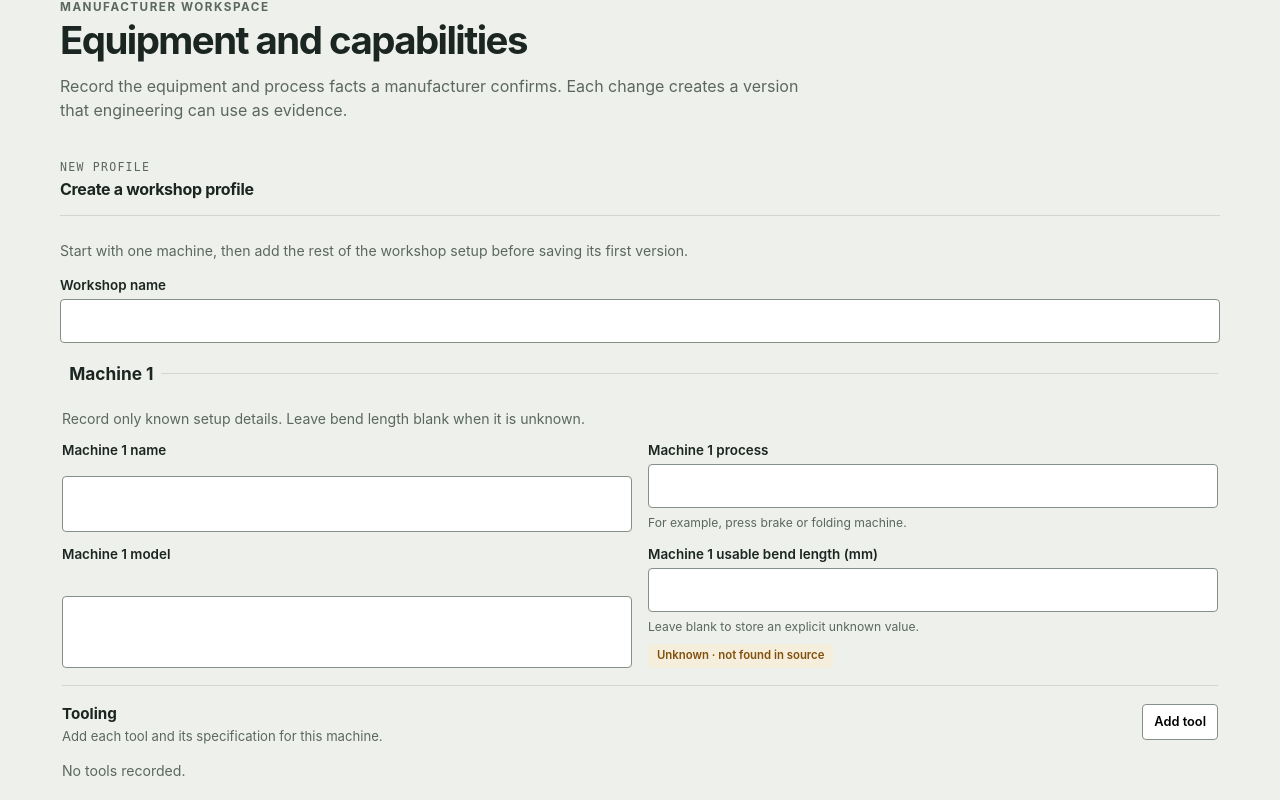
Scenario: workshop profile manager › keeps an unspecified bend length explicitly unknown and saves several machines in the first immutable version
This screenshot has width=1280, height=800.
Expected: the heading "Create a workshop profile" is shown, [60, 179, 254, 199]
Expected: the text "Unknown · not found in source" is shown, [648, 644, 834, 668]
Type "South workshop" into the field labelled "Workshop name".
click(640, 321); type("South workshop")  # box [60, 299, 1220, 343]
Type "Brake A" into the field labelled "Machine 1 name".
click(347, 504); type("Brake A")  # box [62, 476, 632, 532]
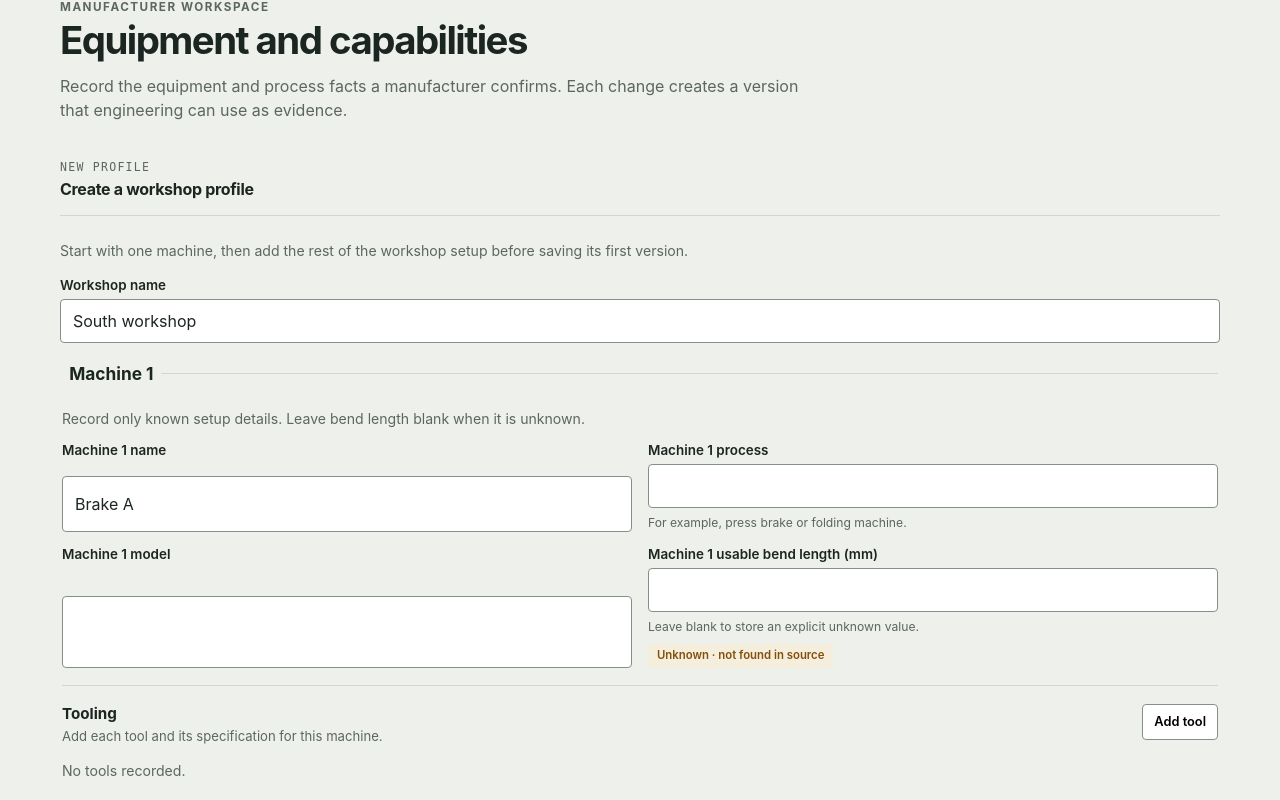
Type "Press brake" into the field labelled "Machine 1 process".
click(933, 486); type("Press brake")  # box [648, 464, 1218, 508]
(page scrolled)
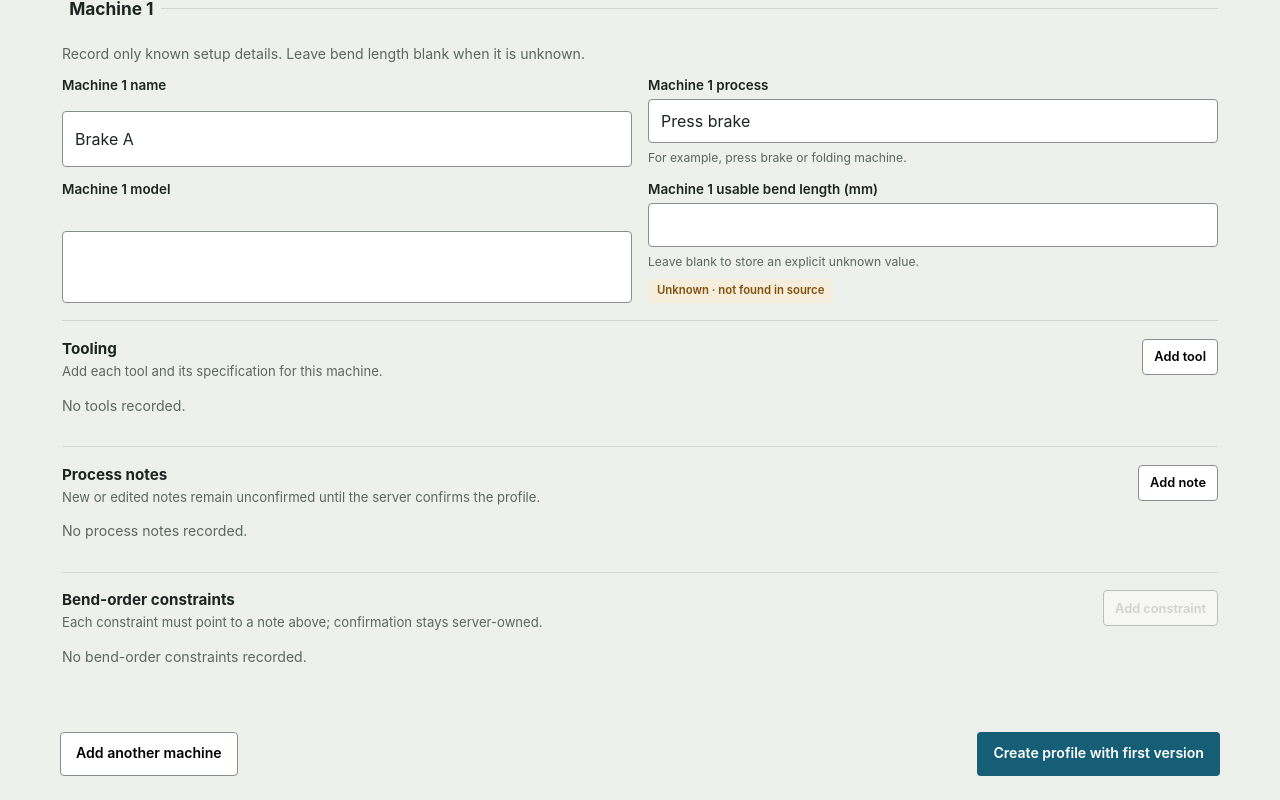
Click the button "Add another machine".
click(149, 754)  # box [60, 732, 238, 776]
(page scrolled)
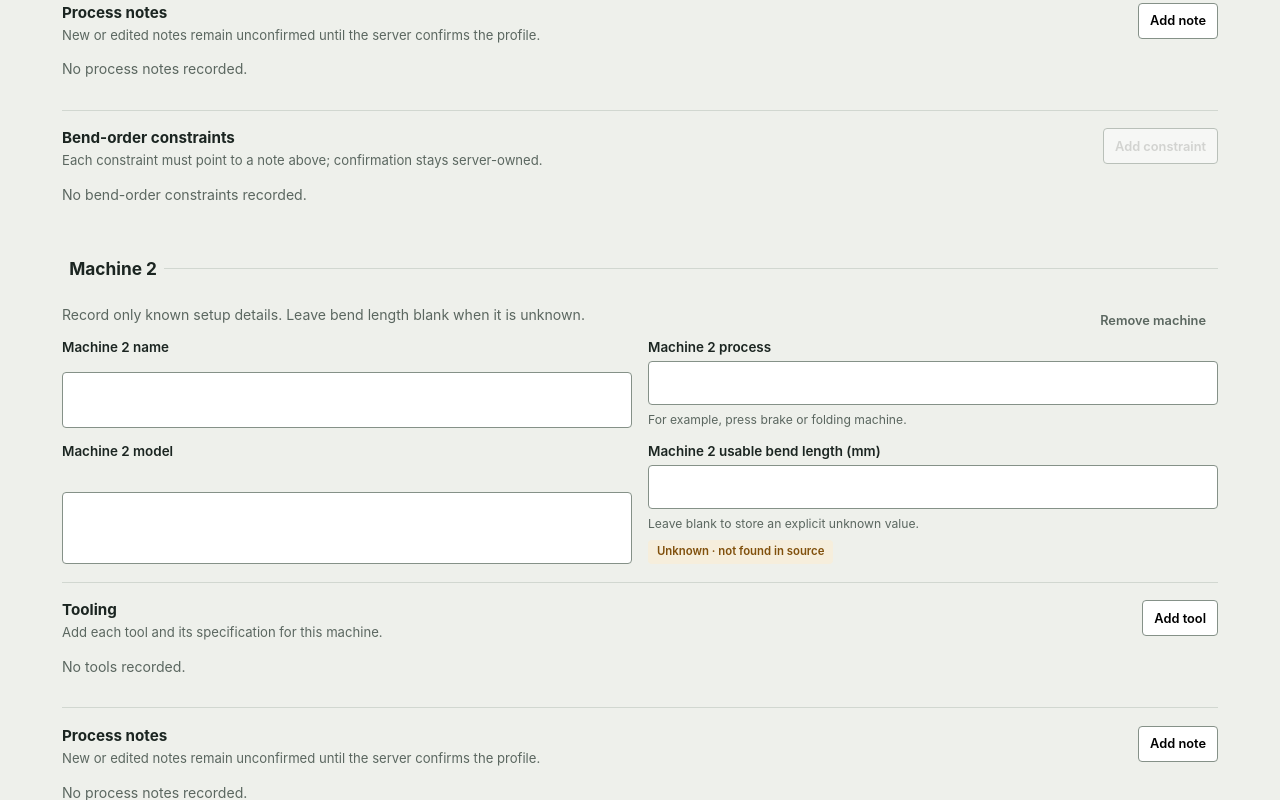
Type "Folder B" into the field labelled "Machine 2 name".
click(347, 400); type("Folder B")  # box [62, 372, 632, 428]
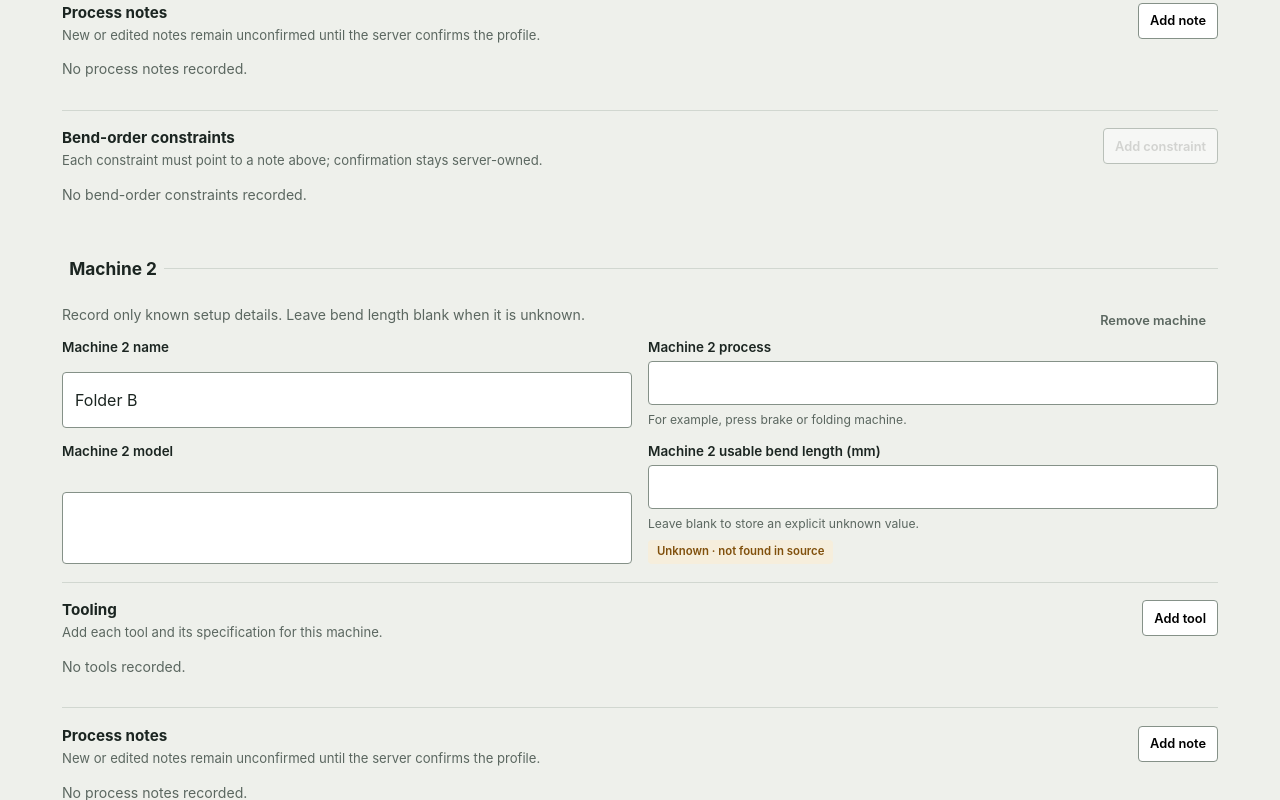
Type "Folding" into the field labelled "Machine 2 process".
click(933, 383); type("Folding")  # box [648, 361, 1218, 405]
(page scrolled)
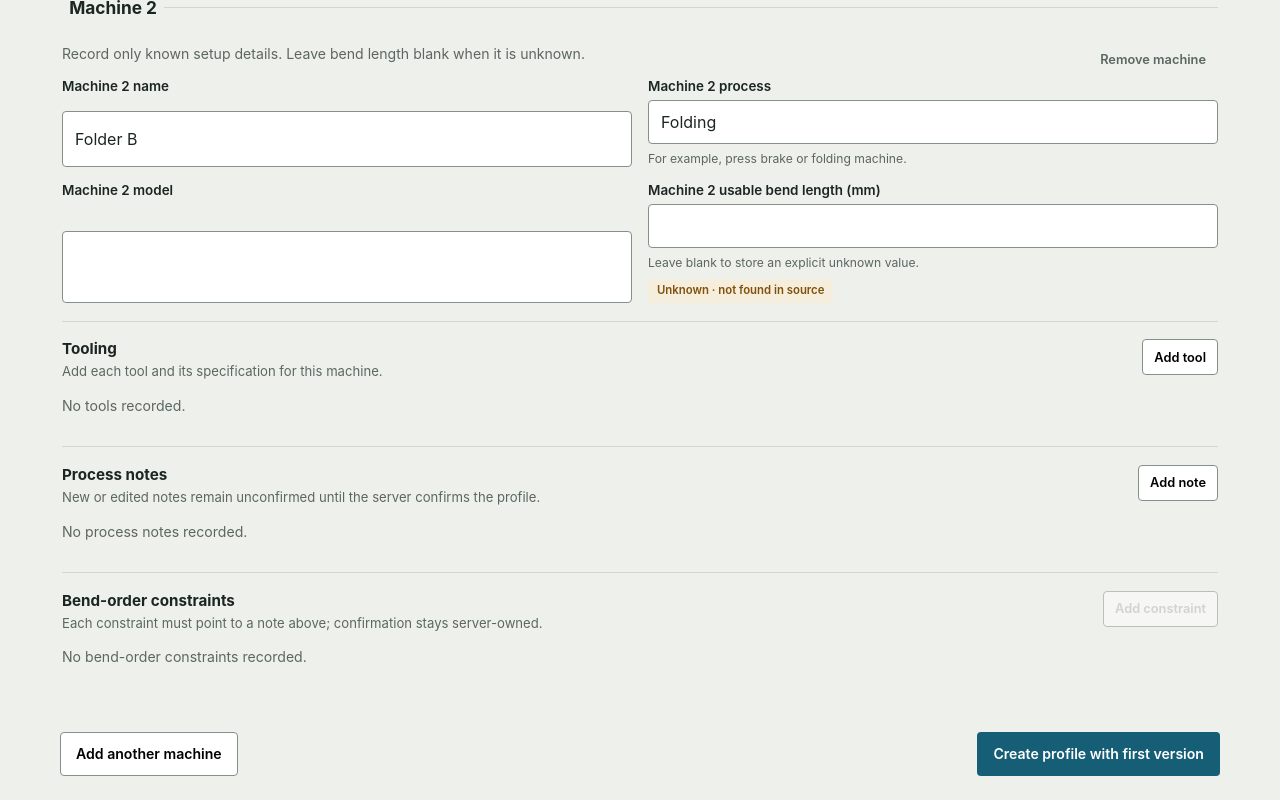
Click the button "Create profile with first version".
click(1099, 754)  # box [977, 732, 1220, 776]
(page scrolled)
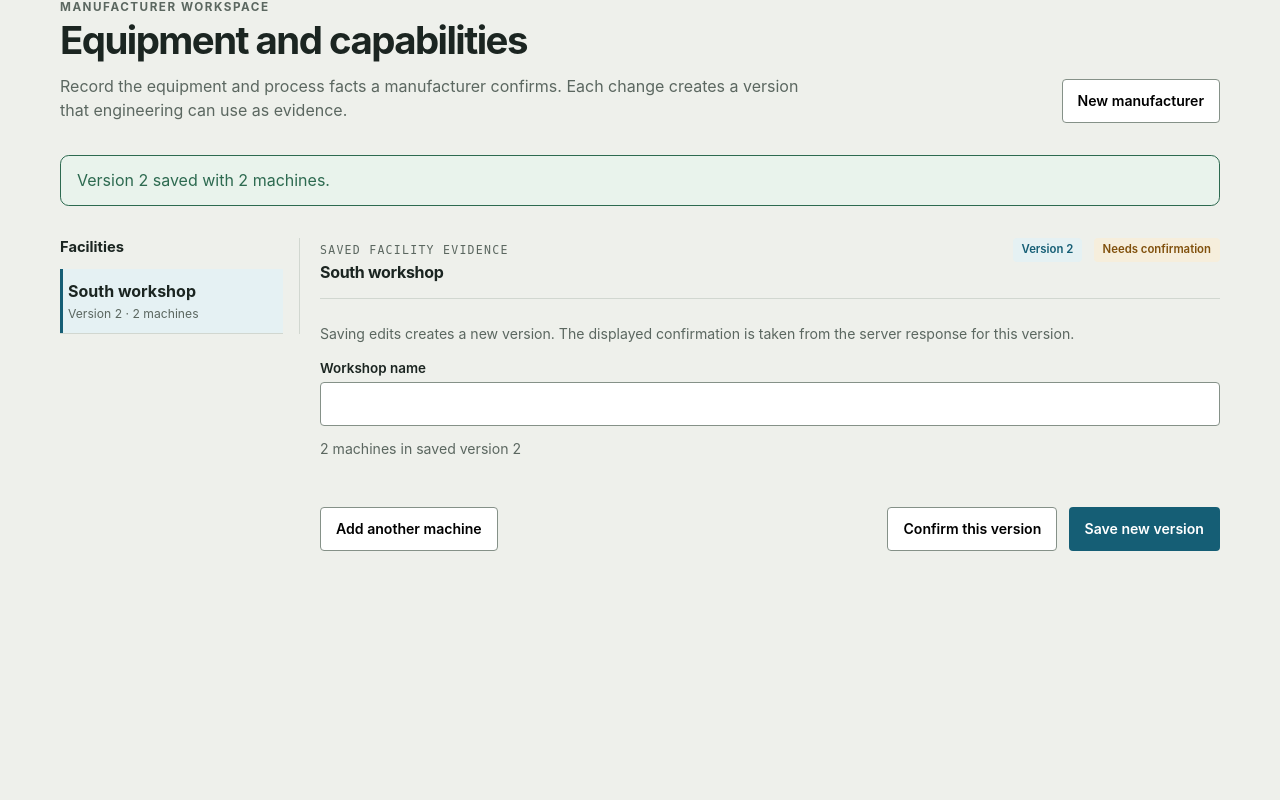
Result: the text "Version 2 saved with 2 machines." is shown at [60, 155, 1220, 206]
